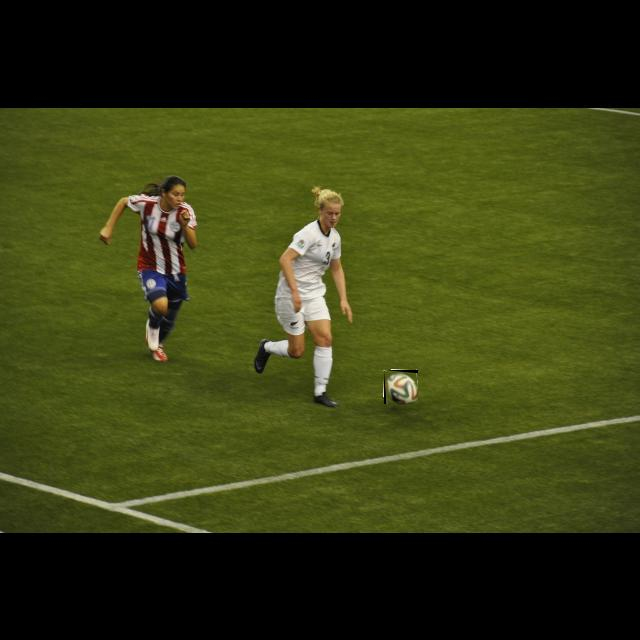Football: (384, 370, 418, 404)
